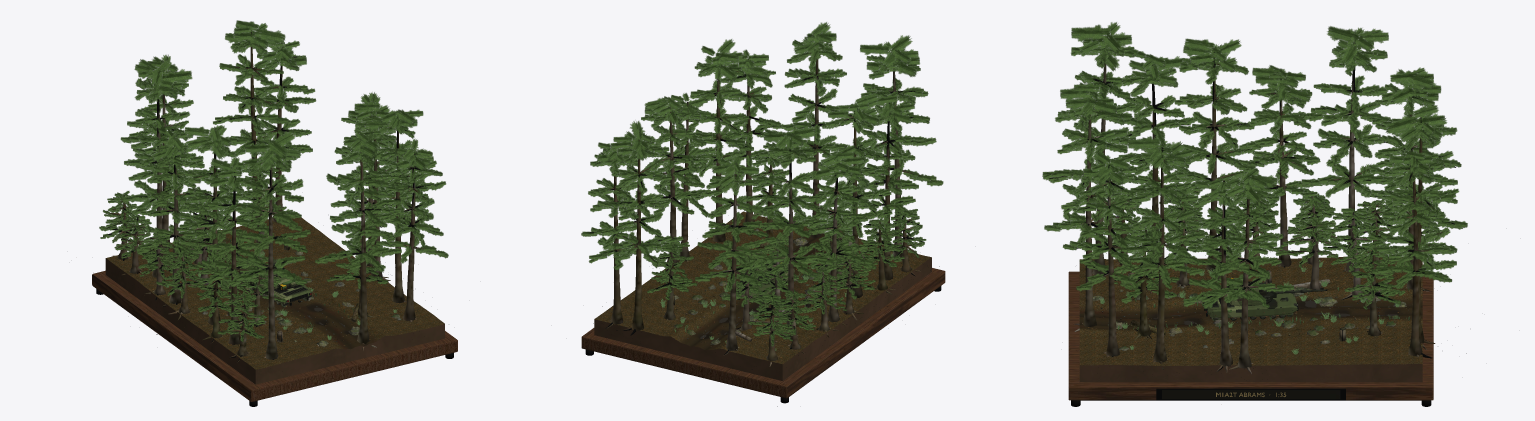
3 renders of one model, left to right at view 1: azimuth 30°, elevation 25°; view 2: azimuth 150°, elevation 25°; view 3: azimuth 270°, elevation 25°, orthographic. The views are drawn at different scales.
Visible parts, largest first — view 1: Needles_Geo, Terrain_Geo, Trunks_Geo, Base_Geo, Rocks_Geo, Hull_Geo, Details_Geo; view 2: Needles_Geo, Terrain_Geo, Trunks_Geo, Base_Geo, Rocks_Geo, Details_Geo; view 3: Needles_Geo, Terrain_Geo, Trunks_Geo, Base_Geo, Rocks_Geo, Hull_Geo, Ferns_Geo, Details_Geo.
Boxes of the visible parts, x1=… form: Needles_Geo: x1=99, y1=20, x2=448, y2=342; Terrain_Geo: x1=105, y1=217, x2=444, y2=384; Trunks_Geo: x1=103, y1=30, x2=438, y2=362; Base_Geo: x1=92, y1=270, x2=457, y2=406; Rocks_Geo: x1=190, y1=241, x2=401, y2=347; Hull_Geo: x1=239, y1=271, x2=312, y2=305; Details_Geo: x1=113, y1=225, x2=434, y2=362; Needles_Geo: x1=581, y1=22, x2=943, y2=346; Terrain_Geo: x1=594, y1=211, x2=931, y2=380; Trunks_Geo: x1=590, y1=50, x2=936, y2=366; Base_Geo: x1=581, y1=268, x2=945, y2=403; Rocks_Geo: x1=674, y1=229, x2=852, y2=344; Details_Geo: x1=593, y1=231, x2=939, y2=406; Needles_Geo: x1=1042, y1=22, x2=1467, y2=310; Terrain_Geo: x1=1079, y1=256, x2=1422, y2=382; Trunks_Geo: x1=1049, y1=42, x2=1456, y2=373; Base_Geo: x1=1068, y1=271, x2=1433, y2=406; Rocks_Geo: x1=1093, y1=269, x2=1406, y2=350; Hull_Geo: x1=1203, y1=290, x2=1298, y2=319; Ferns_Geo: x1=1098, y1=260, x2=1409, y2=354; Details_Geo: x1=1085, y1=252, x2=1466, y2=372.
Size of the model in its own units: 1.16 by 0.8086 by 1.29.
Materials: 159 (9 with a texture image).
